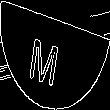M_N: (38, 25, 72, 85)
